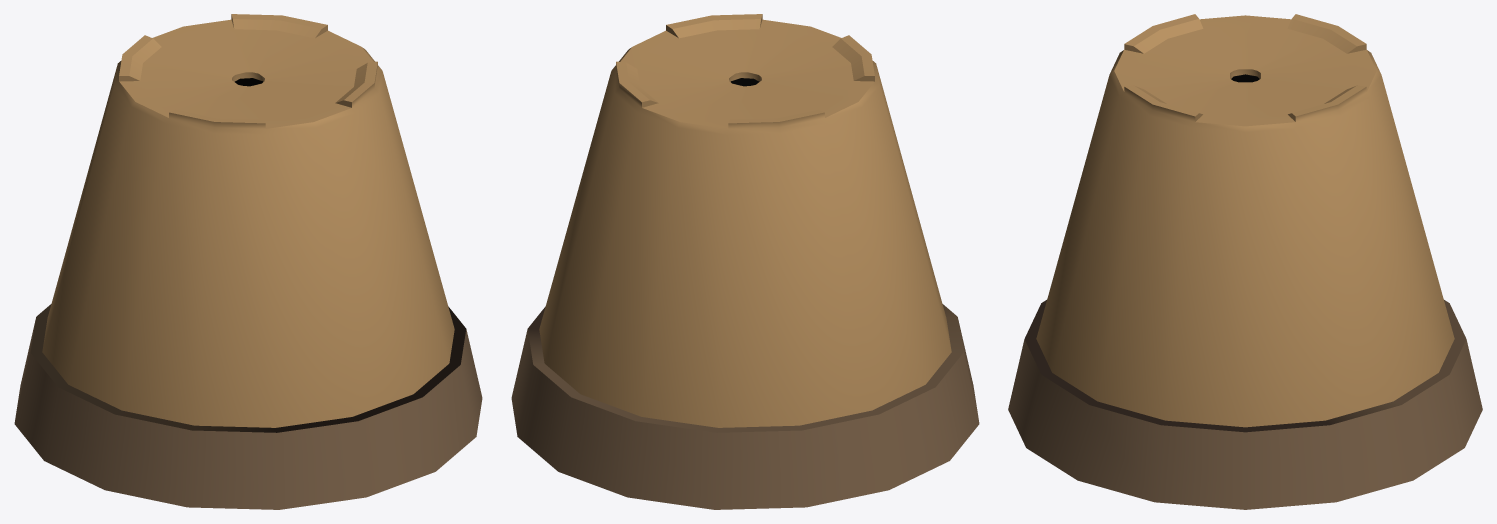
3 renders of one model, left to right at view 1: azimuth 30°, elevation 25°; view 2: azimuth 150°, elevation 25°; view 3: azimuth 270°, elevation 25°, orthographic.
Parts seen in each view (by area): view 1: Joint_0_Object_2, Joint_0_Object_0, Joint_0_Object_1; view 2: Joint_0_Object_2, Joint_0_Object_0, Joint_0_Object_1; view 3: Joint_0_Object_2, Joint_0_Object_0, Joint_0_Object_1.
Part boxes in pixels (box(x1,y1,x2,y2)): Joint_0_Object_2: box(42, 14, 454, 427); Joint_0_Object_0: box(14, 320, 482, 509); Joint_0_Object_1: box(30, 78, 466, 432); Joint_0_Object_2: box(539, 14, 951, 427); Joint_0_Object_0: box(511, 320, 979, 509); Joint_0_Object_1: box(527, 78, 963, 432); Joint_0_Object_2: box(1036, 14, 1454, 427); Joint_0_Object_0: box(1008, 339, 1482, 509); Joint_0_Object_1: box(1024, 74, 1466, 432).
Size of the model in its own units: 380 by 304 by 380.
